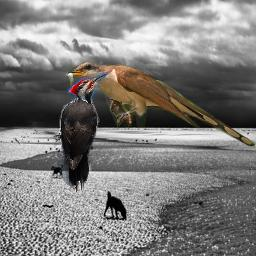Cuckoo: (62, 61, 256, 147)
Woodpecker: (49, 71, 112, 193)
